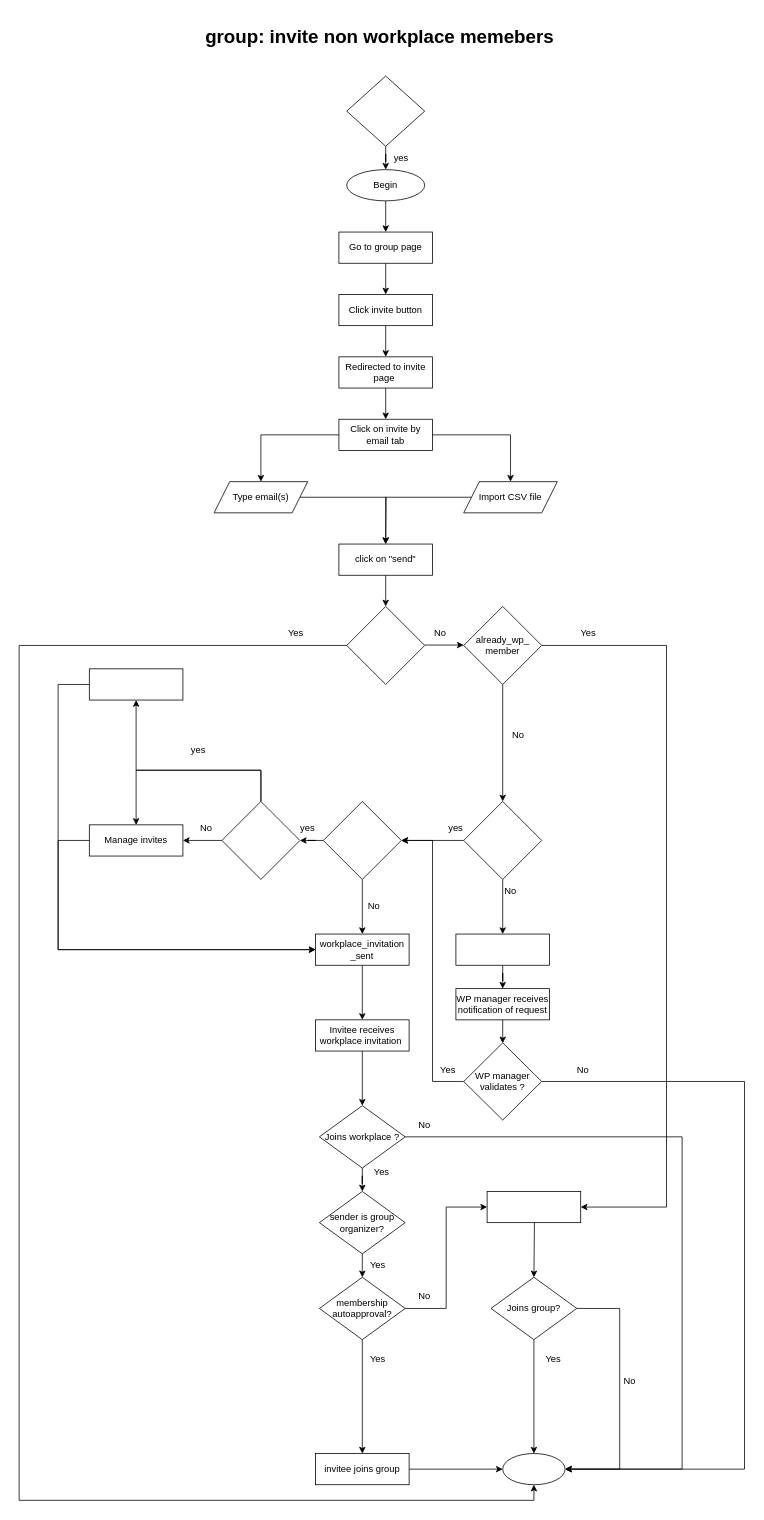
This 764x1520 diagram has some shape labels left out. Each missing label, with the centre of its shape:
"already_group _member" goes at (x=385, y=645).
"Choose a plan" goes at (x=136, y=684).
"end" goes at (x=533, y=1469).
"group_invitation_sent" goes at (x=533, y=1207).
"is org admin?" goes at (x=260, y=840).
"Sender is WP manager?" goes at (x=502, y=840).
"with_member _invitation = 0" goes at (x=385, y=110).
"workplace_invitation _exceeded" goes at (x=362, y=840).
"workplace_invitation _to_validate" goes at (x=502, y=949).
